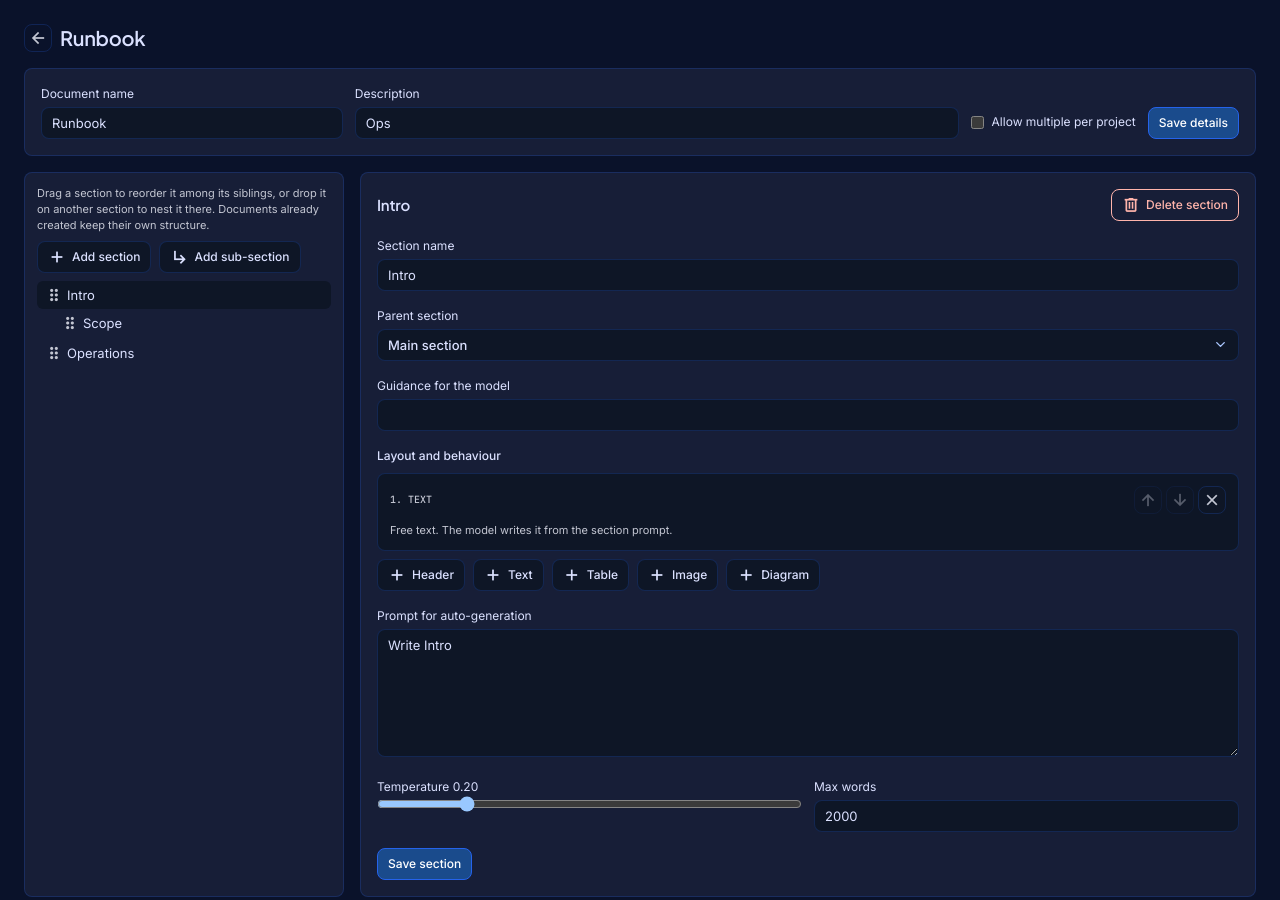
Scenario: adds a sub-section under the selected sub-section
Expected: the element named "Sections" is shown, [24,172,344,897]
Click the button "Scope" at (203,323), box [83,313,323,333]
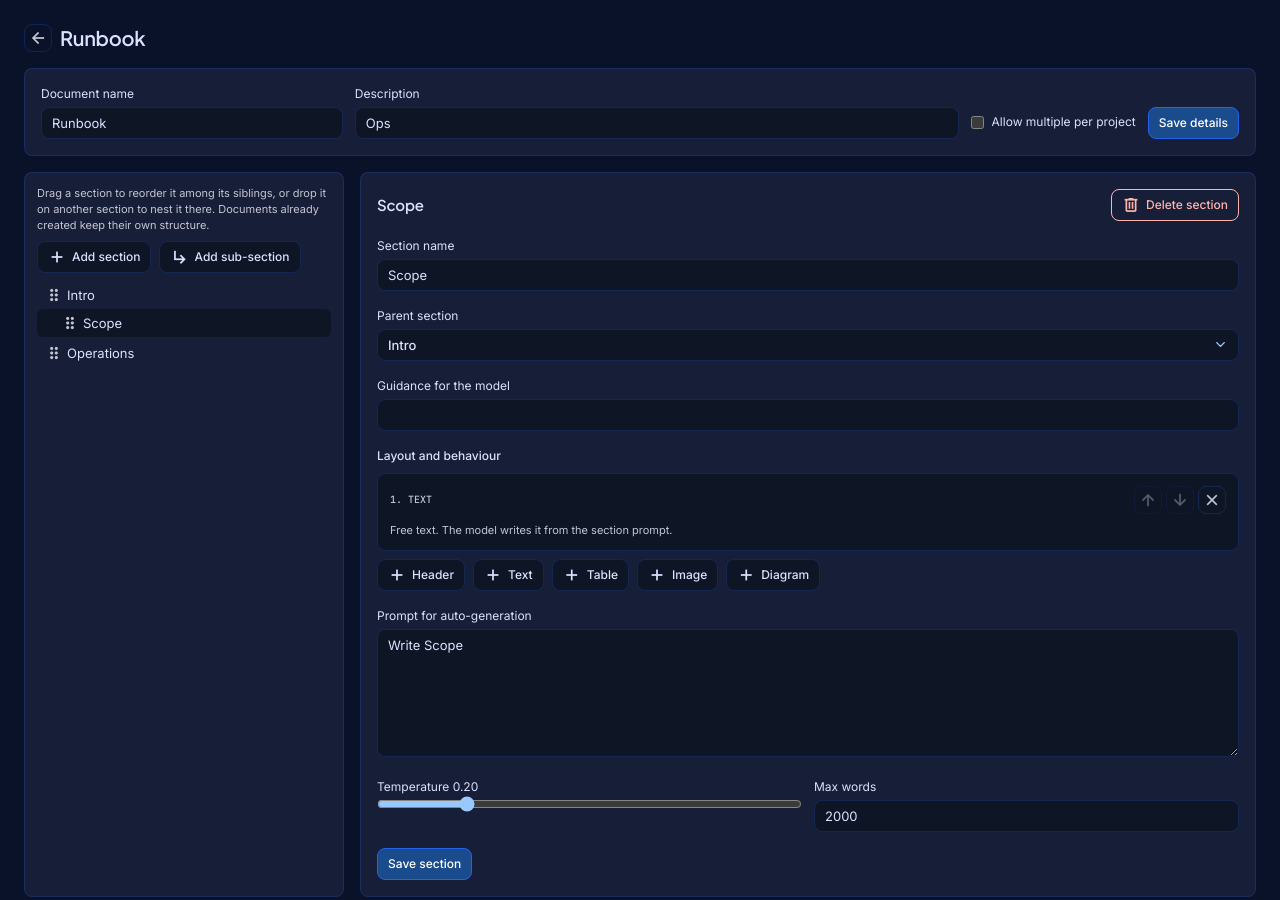
Click the button "Add sub-section" at (230,257), box [160,241,301,273]
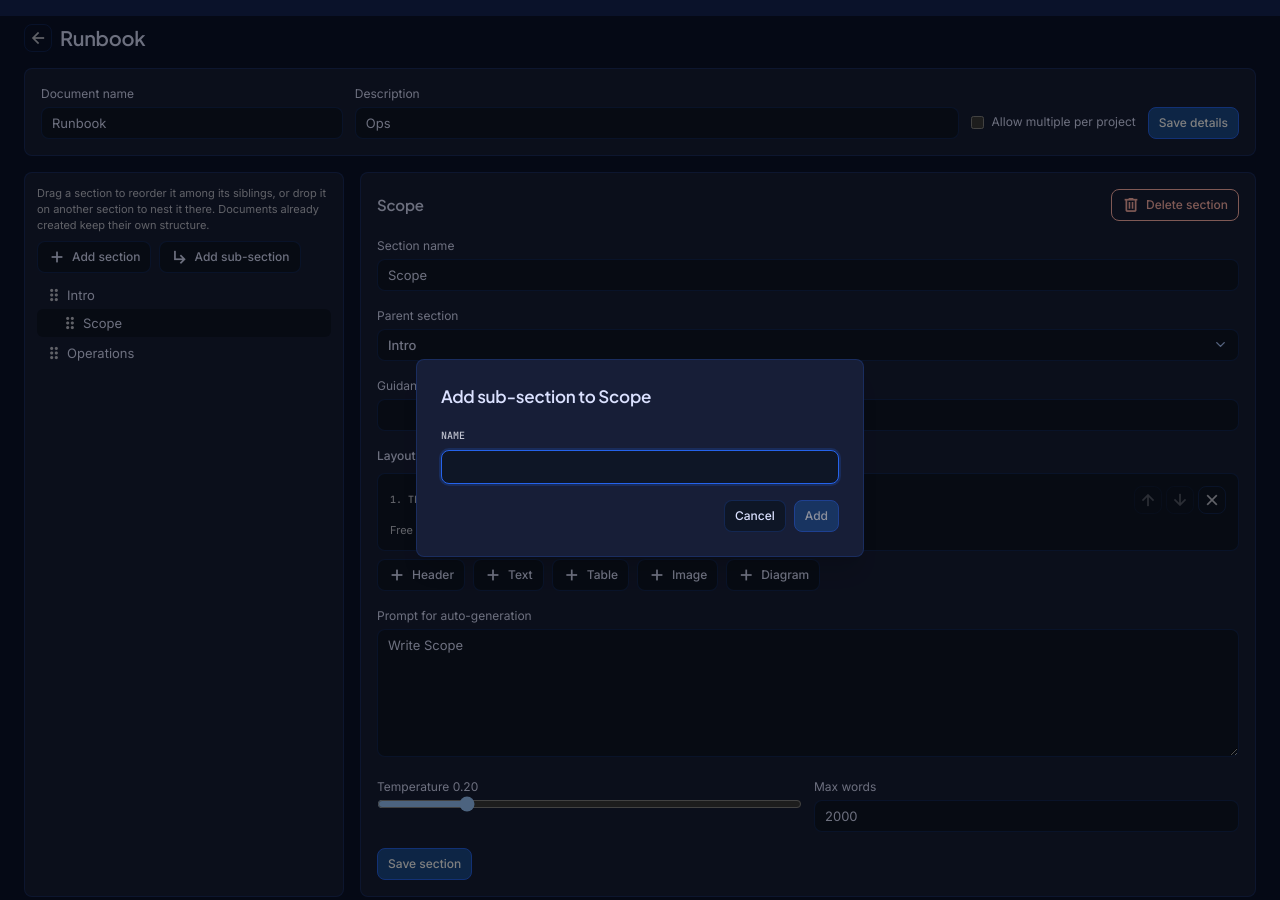
Type "Goals" into the field named "Section name" at (640,467), box [441,450,839,484]
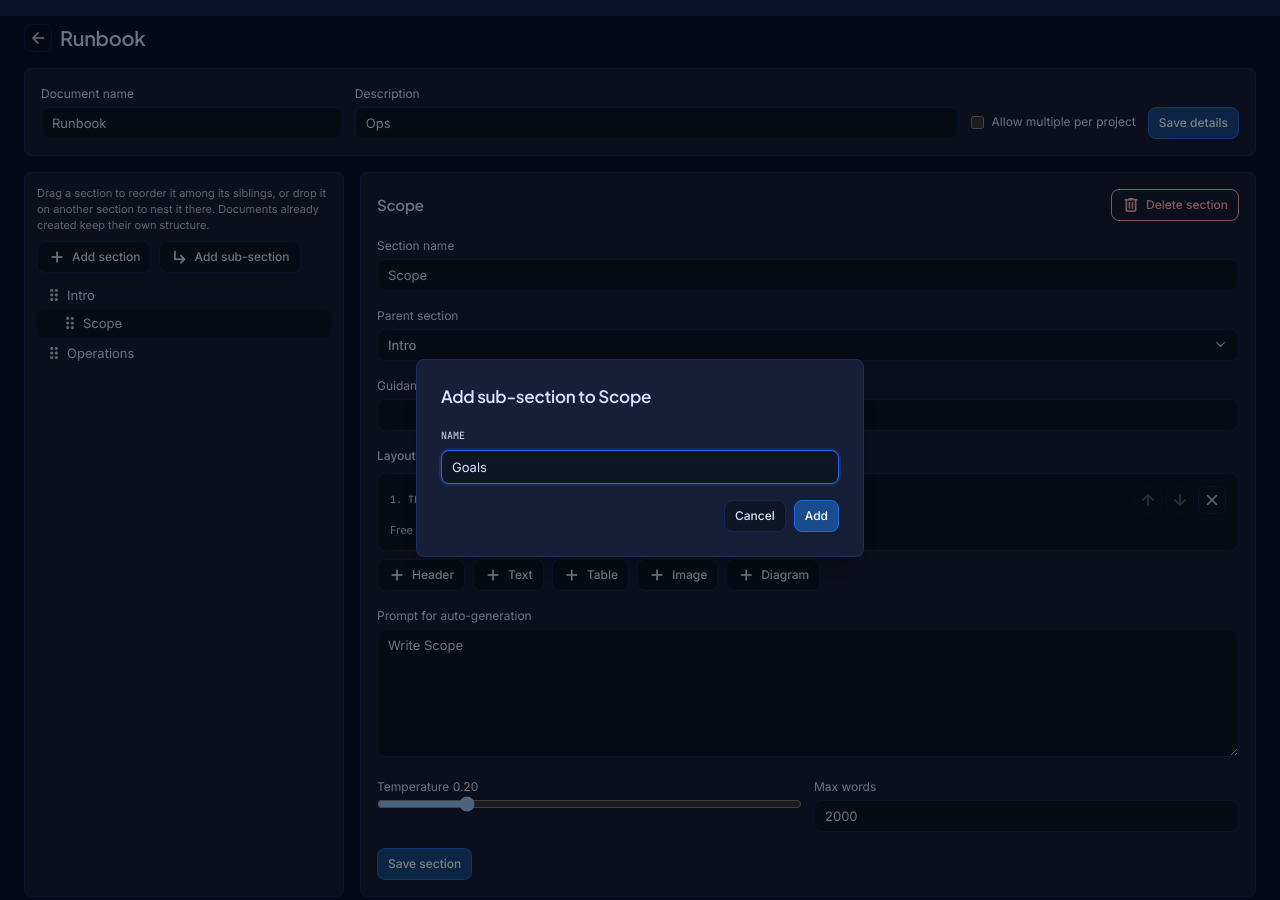
Click the button "Add" at (816,516), box [794,500,839,532]
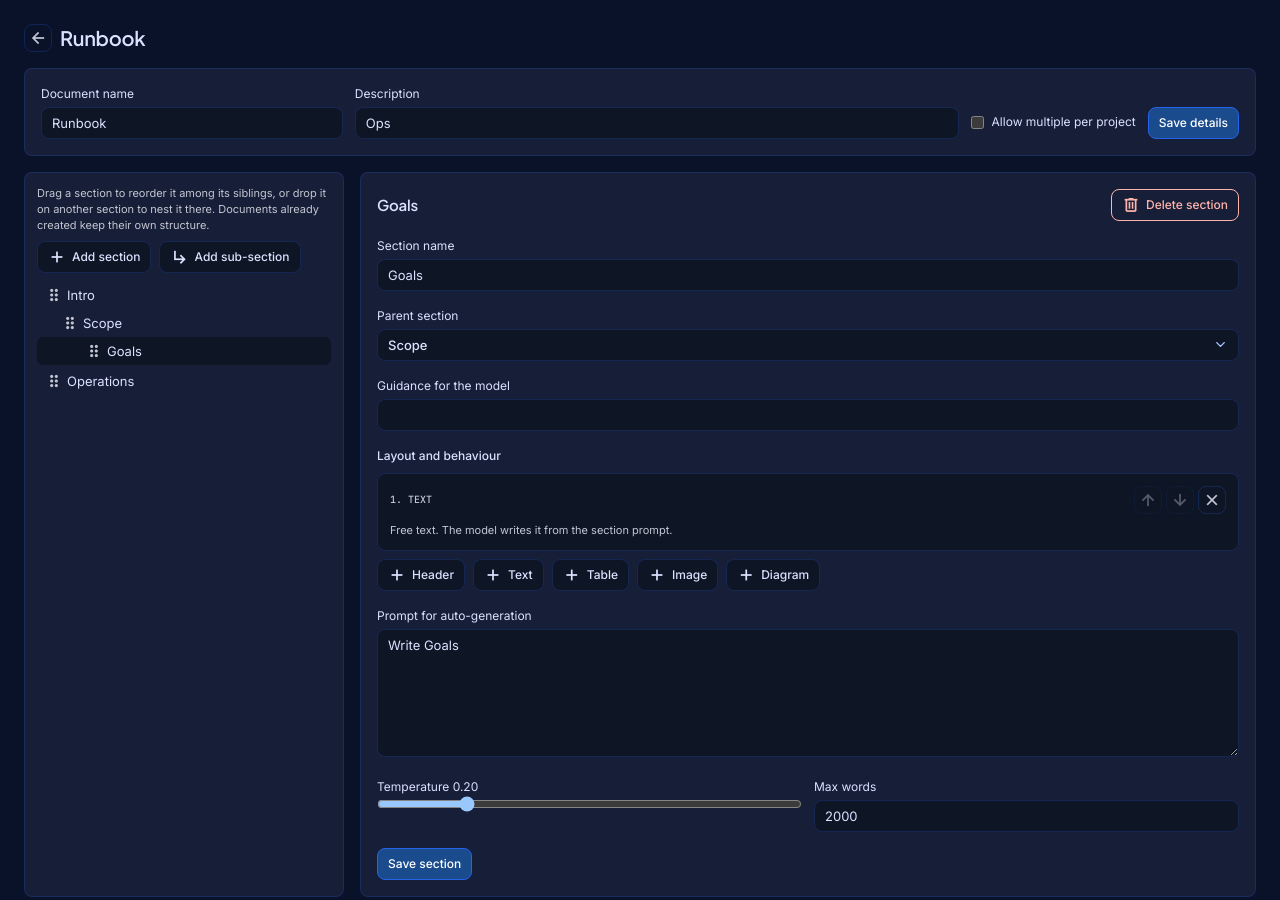
Expected: the button "Goals" is shown, [107,341,323,361]
